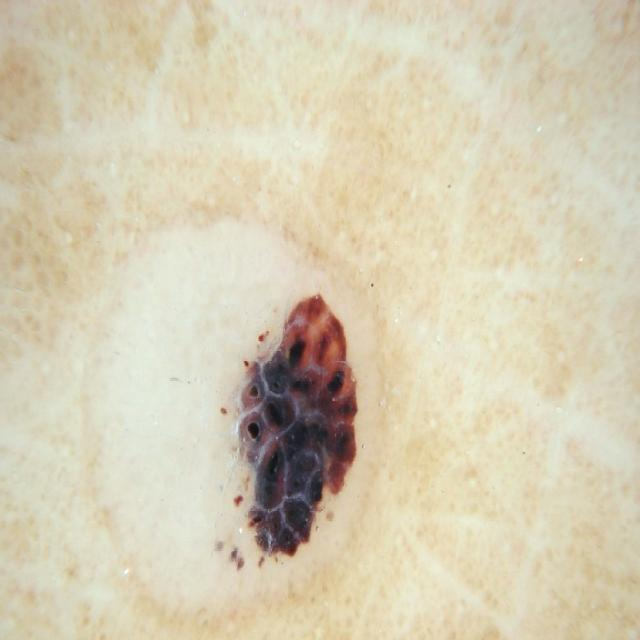Melanoma: (203, 264, 408, 612)
